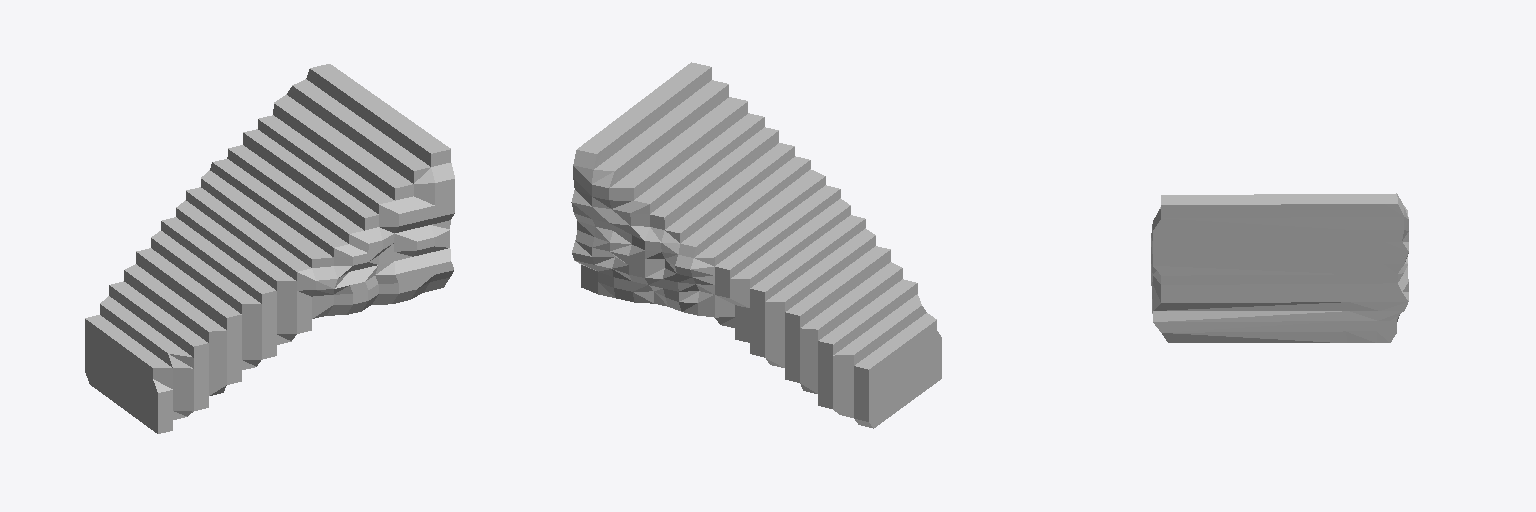
File: stairbase4.obj
3 renders of one model, left to right at view 1: azimuth 30°, elevation 25°; view 2: azimuth 150°, elevation 25°; view 3: azimuth 270°, elevation 25°, orthographic.
Parts seen in each view (by area): view 1: Cube_Cube.020_Cube_Cube.020_auv_Cube_Cube.020_Cube_Cube.020.000; view 2: Cube_Cube.020_Cube_Cube.020_auv_Cube_Cube.020_Cube_Cube.020.000; view 3: Cube_Cube.020_Cube_Cube.020_auv_Cube_Cube.020_Cube_Cube.020.000.
Boxes of the visible parts, x1,y1,x2,y2 form: Cube_Cube.020_Cube_Cube.020_auv_Cube_Cube.020_Cube_Cube.020.000: [85, 64, 454, 433]; Cube_Cube.020_Cube_Cube.020_auv_Cube_Cube.020_Cube_Cube.020.000: [571, 62, 941, 428]; Cube_Cube.020_Cube_Cube.020_auv_Cube_Cube.020_Cube_Cube.020.000: [1151, 193, 1408, 342].
Size of the model in its own units: 0.4838 by 0.3986 by 0.3967.